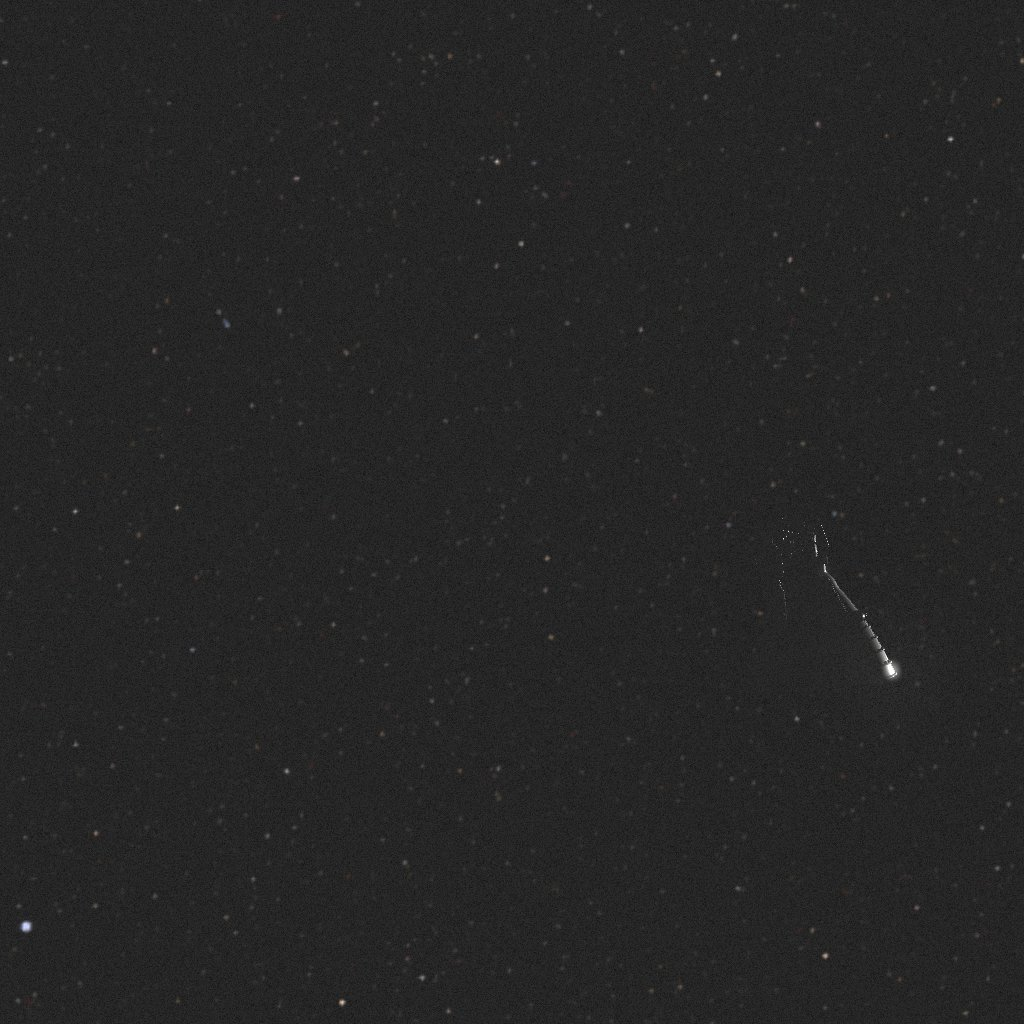debris: (746, 545, 891, 701)
